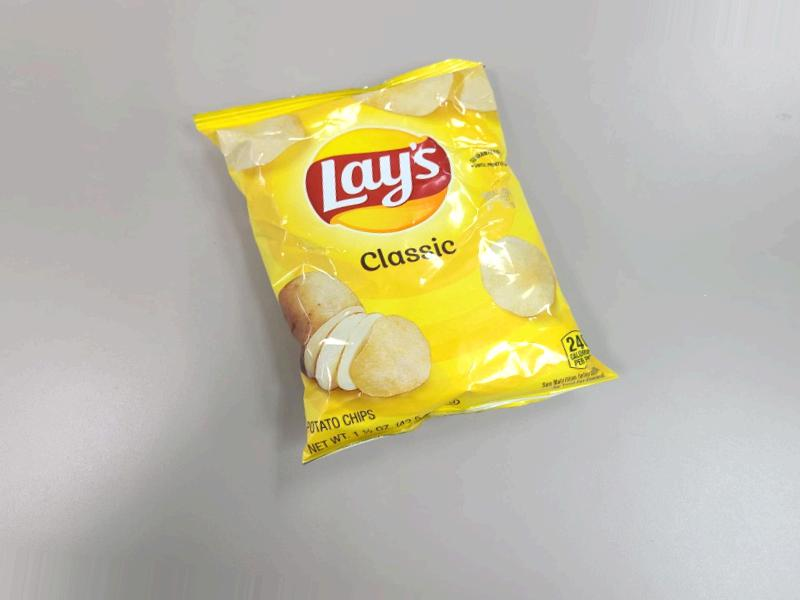lays: (183, 61, 614, 442)
